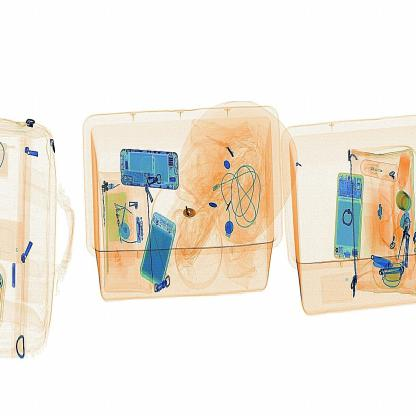wrench: (183, 197, 202, 232)
